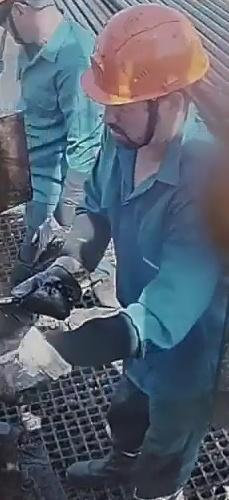gloves: (6, 318, 152, 381), (31, 163, 91, 258), (9, 254, 90, 320)
helmet: (79, 2, 210, 106)
vest: (90, 118, 226, 386), (10, 24, 102, 184)
